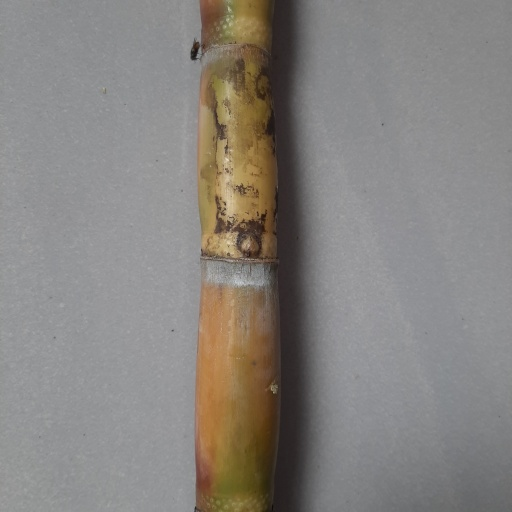Bud: (232, 229, 263, 258)
